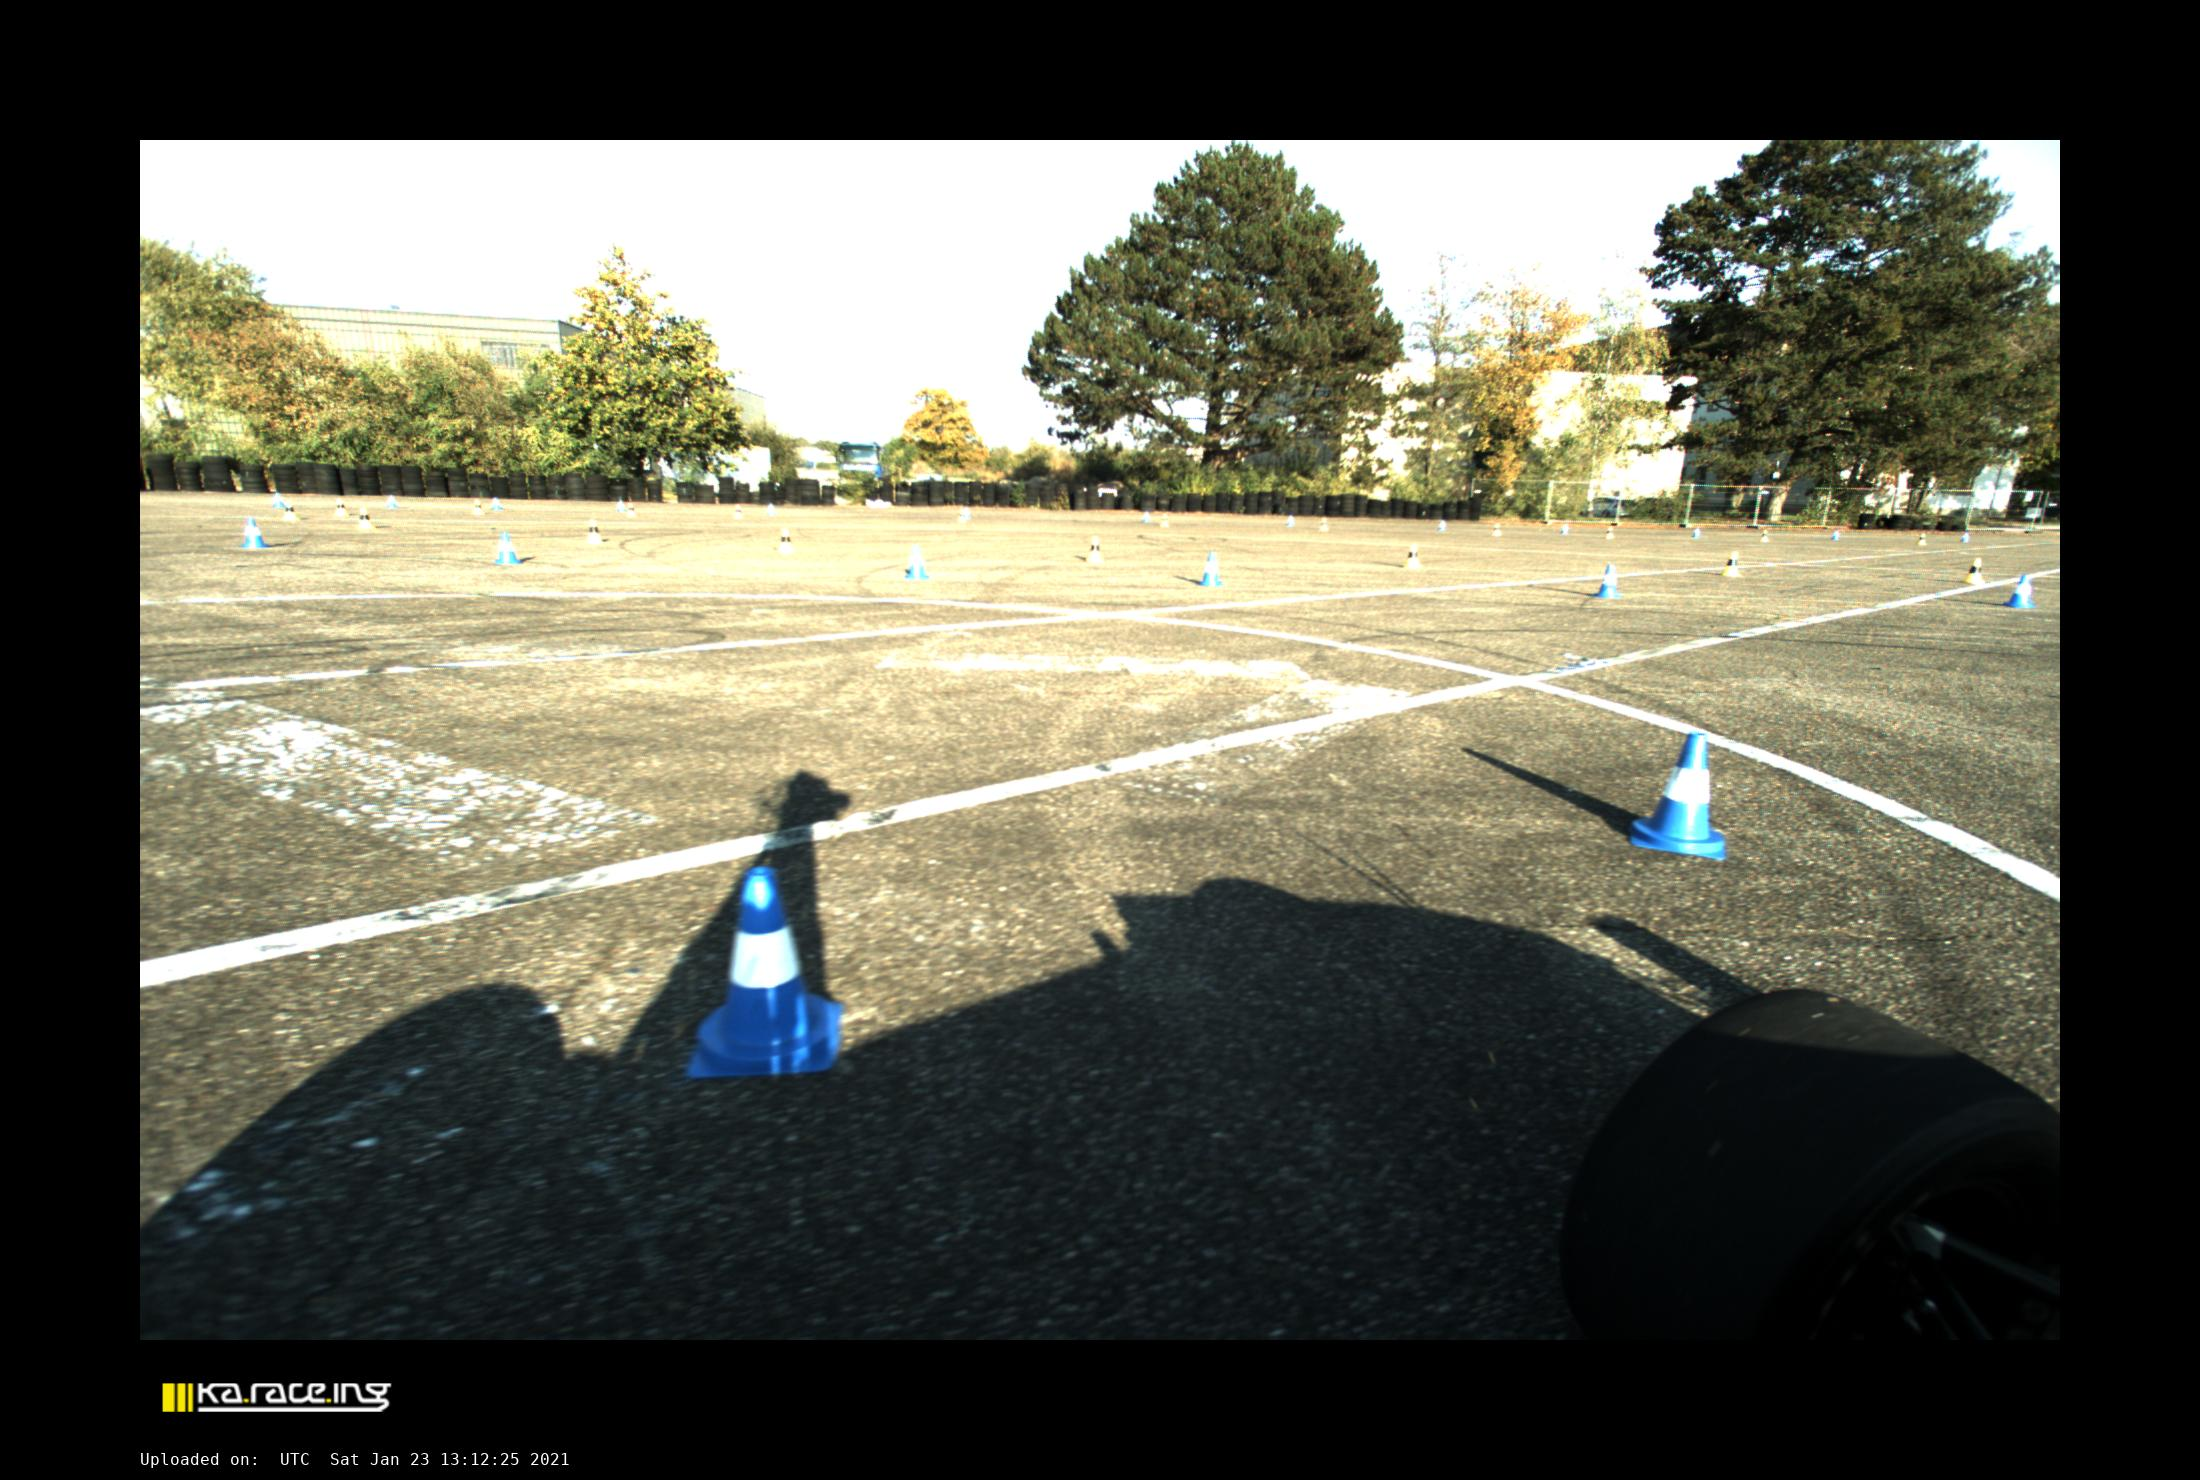blue_cone: (690, 867, 839, 1075), (1632, 732, 1724, 859), (2003, 575, 2035, 608), (1196, 552, 1222, 586), (903, 543, 928, 580), (241, 517, 269, 547), (495, 534, 522, 563), (1597, 565, 1620, 598), (273, 492, 286, 509), (386, 492, 400, 509), (491, 496, 504, 510), (1437, 519, 1448, 530), (616, 499, 626, 512), (1961, 530, 1970, 543), (765, 502, 775, 515), (1141, 510, 1151, 522), (1691, 527, 1701, 538), (1832, 529, 1838, 542), (1561, 524, 1569, 534), (1287, 514, 1293, 525)
yellow_cone: (1402, 543, 1424, 570), (1087, 535, 1107, 563), (1964, 557, 1984, 583), (1723, 552, 1741, 576), (776, 529, 794, 553), (585, 519, 603, 543), (357, 507, 373, 529), (282, 500, 299, 520), (334, 499, 348, 515), (472, 497, 486, 515), (1318, 515, 1330, 532), (624, 502, 638, 515), (1916, 530, 1927, 545), (1491, 522, 1503, 535), (733, 504, 743, 519), (1159, 514, 1169, 527), (1605, 525, 1615, 538), (1761, 529, 1769, 542)
